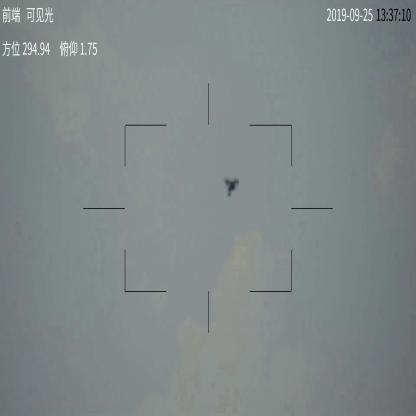uav: (224, 173, 240, 196)
